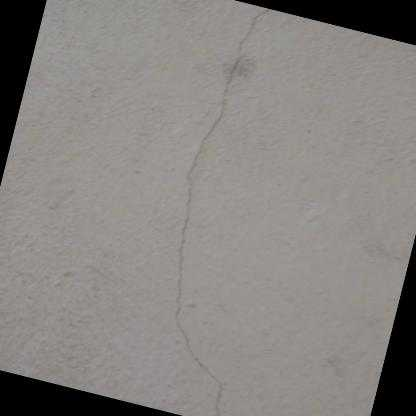crack: (170, 7, 272, 416)
